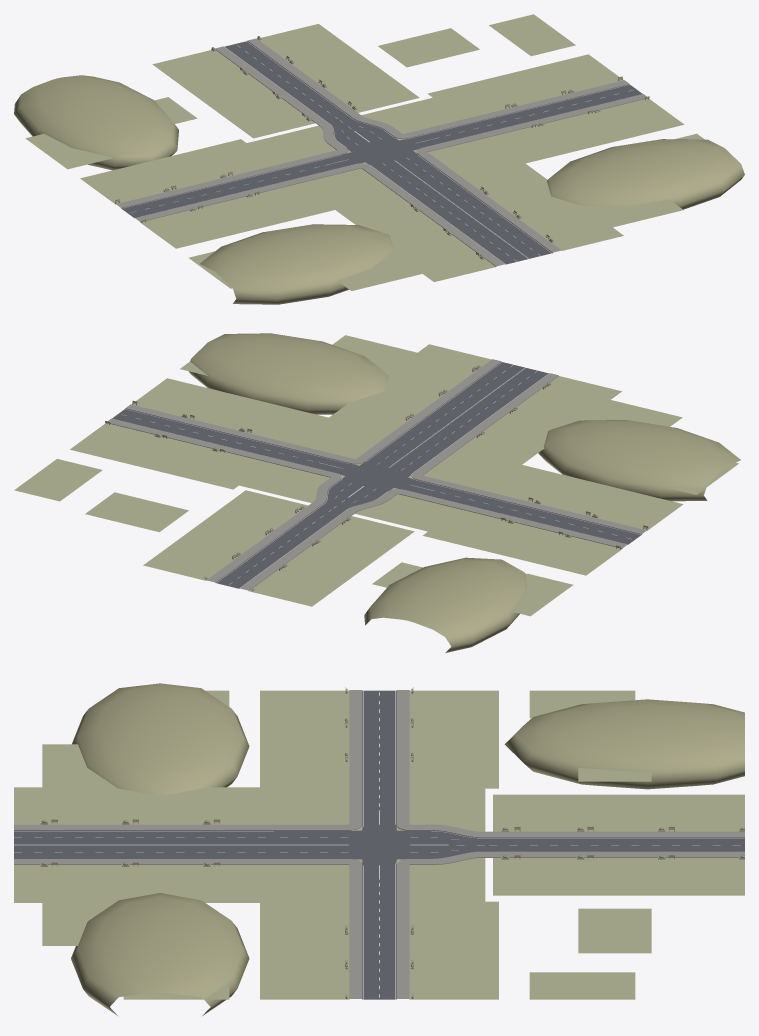
3 views of the same model, one above another, from view 1: azimuth 30°, elevation 25°; view 2: azimuth 150°, elevation 25°; view 3: azimuth 270°, elevation 25° (orthographic). The views are drawn at different scales.
Parts seen in each view (by area): view 1: static; view 2: static; view 3: static.
Part boxes in pixels (bbox=[...]): static: bbox=[14, 14, 744, 304]; static: bbox=[14, 333, 740, 652]; static: bbox=[14, 683, 744, 1016].
Size of what is drawn, in the model's own units: 180 by 14.08 by 180.
